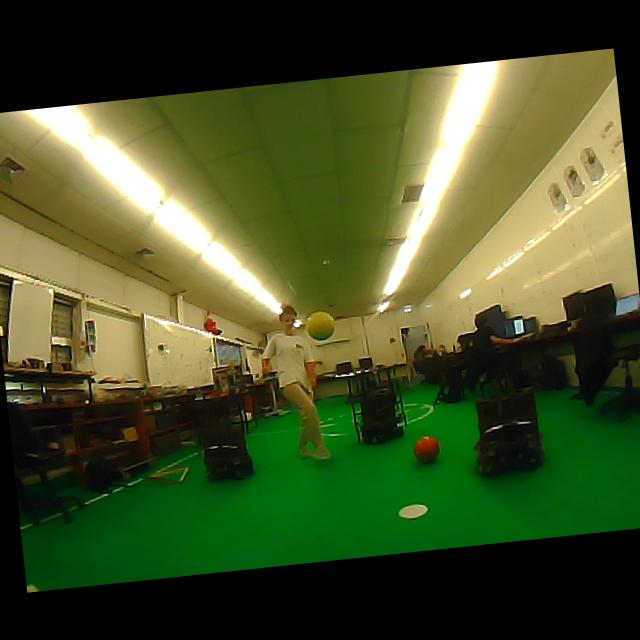ball: (306, 311, 334, 339), (414, 436, 439, 462)
robot: (475, 377, 545, 479), (334, 365, 408, 442), (193, 394, 253, 481)
